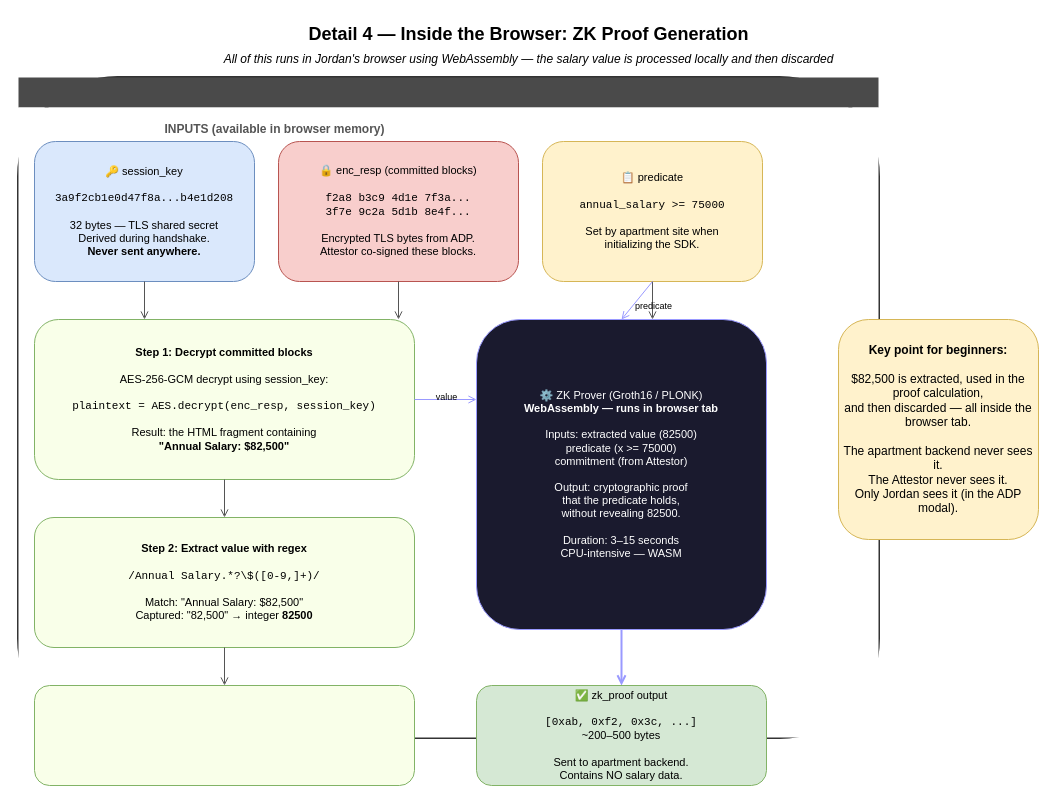
Some shapes in this 1056 by 803 pixel diagram are drawn without their labels. The shapes that lost their labels are listed below. From the top down, each one's box as (x1, y1, x2, y2) in pixels, then its label:
(18, 77, 878, 107): ⬤ ⬤ ⬤ apartments.com/apply — [reclaim-sdk.js running]
(34, 684, 414, 786): Step 3: Check predicate 82500 >= 75000 → TRUE This boolean is what gets proven.
